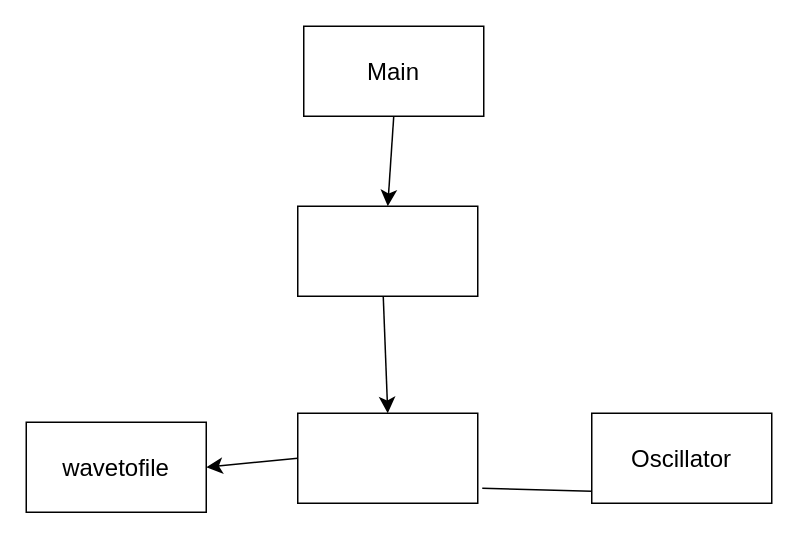
This 798x539 diagram has some shape labels left out. Here are the shapes that lost their labels. From the top down, the centre of each, then its label:
[387,250]: Gui
[387,457]: Synthesizer
